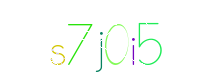0: (75, 0, 155, 80)
5: (93, 0, 173, 80)
7: (64, 0, 144, 80)
I: (75, 0, 155, 80)
J: (72, 0, 152, 80)
S: (18, 0, 98, 80)
